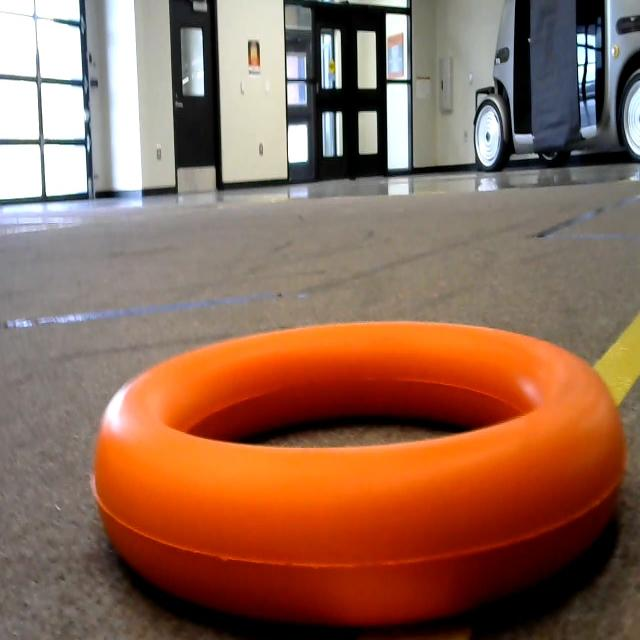note: (77, 294, 640, 640)
